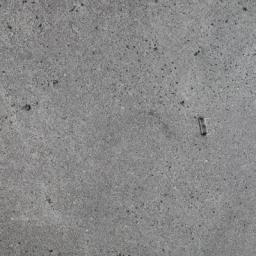FOD: (196, 114, 218, 140)
